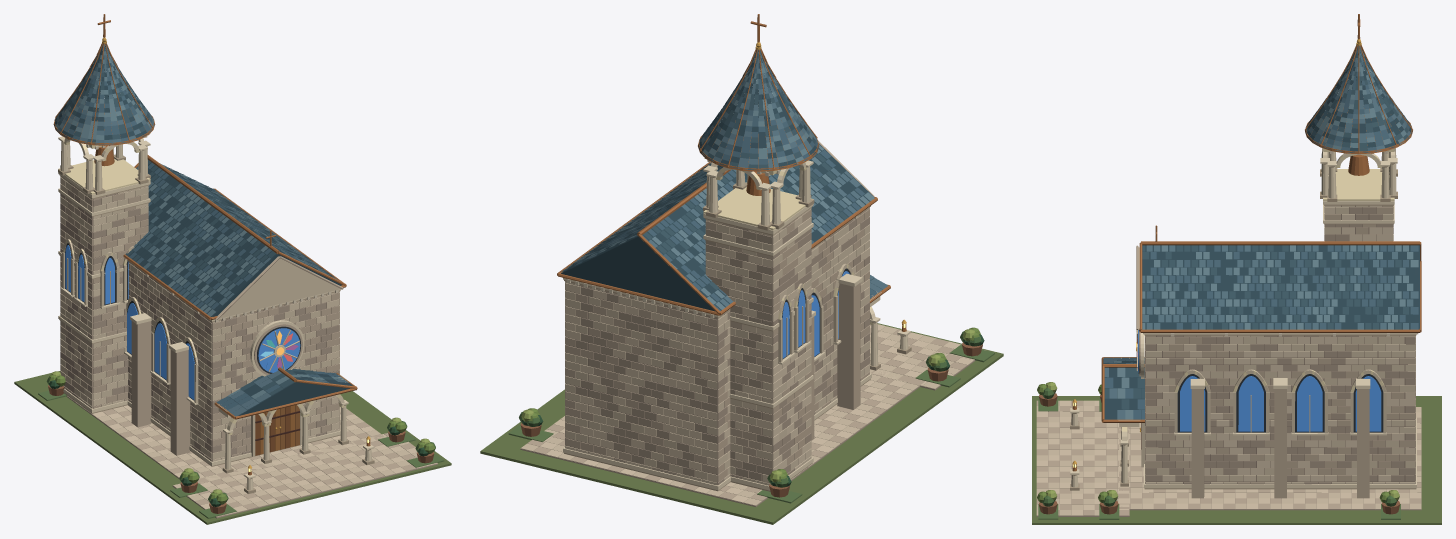
The model's file is church-nivel-3.glb.
3 views of the same model, side by side, from view 1: azimuth 30°, elevation 25°; view 2: azimuth 150°, elevation 25°; view 3: azimuth 270°, elevation 25° (orthographic). The views are drawn at different scales.
Parts seen in each view (by area): view 1: Igreja 03 #c1af99, Igreja 03 #d3c3a9, Igreja 03 #dac9af, Igreja 03 #344d58, Igreja 03 #ae9d8b, Igreja 03 #e6d7ba, Igreja 03 #6c7d4e, Igreja 03 #55717e, Igreja 03 #637f89, Igreja 03 #3f5a65, Igreja 03 #486574, Igreja 03 #a76e42 (+10 smaller); view 2: Igreja 03 #c1af99, Igreja 03 #d3c3a9, Igreja 03 #dac9af, Igreja 03 #ae9d8b, Igreja 03 #344d58, Igreja 03 #6c7d4e, Igreja 03 #e6d7ba, Igreja 03 #a76e42, Igreja 03 #55717e, Igreja 03 #486574, Igreja 03 #3f5a65, Igreja 03 #637f89 (+6 smaller); view 3: Igreja 03 #c1af99, Igreja 03 #d3c3a9, Igreja 03 #dac9af, Igreja 03 #344d58, Igreja 03 #ae9d8b, Igreja 03 #6c7d4e, Igreja 03 #55717e, Igreja 03 #3f5a65, Igreja 03 #486574, Igreja 03 #e6d7ba, Igreja 03 #a76e42, Igreja 03 #637f89 (+7 smaller).
Boxes of the visible parts, <box> form: Igreja 03 #c1af99: <box>60,185,416,517</box>; Igreja 03 #d3c3a9: <box>60,181,426,514</box>; Igreja 03 #dac9af: <box>60,176,437,512</box>; Igreja 03 #344d58: <box>54,46,352,415</box>; Igreja 03 #ae9d8b: <box>60,181,437,518</box>; Igreja 03 #e6d7ba: <box>58,136,374,490</box>; Igreja 03 #6c7d4e: <box>14,371,451,524</box>; Igreja 03 #55717e: <box>55,44,348,416</box>; Igreja 03 #637f89: <box>55,44,344,398</box>; Igreja 03 #3f5a65: <box>57,44,334,395</box>; Igreja 03 #486574: <box>57,45,340,410</box>; Igreja 03 #a76e42: <box>53,14,370,475</box>; Igreja 03 #c1af99: <box>527,140,985,500</box>; Igreja 03 #d3c3a9: <box>520,207,974,505</box>; Igreja 03 #dac9af: <box>540,212,973,502</box>; Igreja 03 #ae9d8b: <box>520,217,975,506</box>; Igreja 03 #344d58: <box>561,49,882,311</box>; Igreja 03 #6c7d4e: <box>480,323,1003,524</box>; Igreja 03 #e6d7ba: <box>563,160,910,490</box>; Igreja 03 #a76e42: <box>557,14,906,331</box>; Igreja 03 #55717e: <box>566,50,887,306</box>; Igreja 03 #486574: <box>560,53,877,311</box>; Igreja 03 #3f5a65: <box>570,50,848,289</box>; Igreja 03 #637f89: <box>574,52,874,309</box>; Igreja 03 #c1af99: <box>1036,205,1421,515</box>; Igreja 03 #d3c3a9: <box>1036,205,1421,515</box>; Igreja 03 #dac9af: <box>1036,205,1421,515</box>; Igreja 03 #344d58: <box>1103,46,1419,419</box>; Igreja 03 #ae9d8b: <box>1036,207,1421,516</box>; Igreja 03 #6c7d4e: <box>1032,396,1441,524</box>; Igreja 03 #55717e: <box>1103,49,1418,419</box>; Igreja 03 #3f5a65: <box>1103,46,1411,409</box>; Igreja 03 #486574: <box>1104,49,1418,419</box>; Igreja 03 #e6d7ba: <box>1070,148,1416,488</box>; Igreja 03 #a76e42: <box>1072,14,1421,471</box>; Igreja 03 #637f89: <box>1113,46,1418,419</box>.
Bounding box in the file's own units: 13.75 × 20.73 × 18.77.
